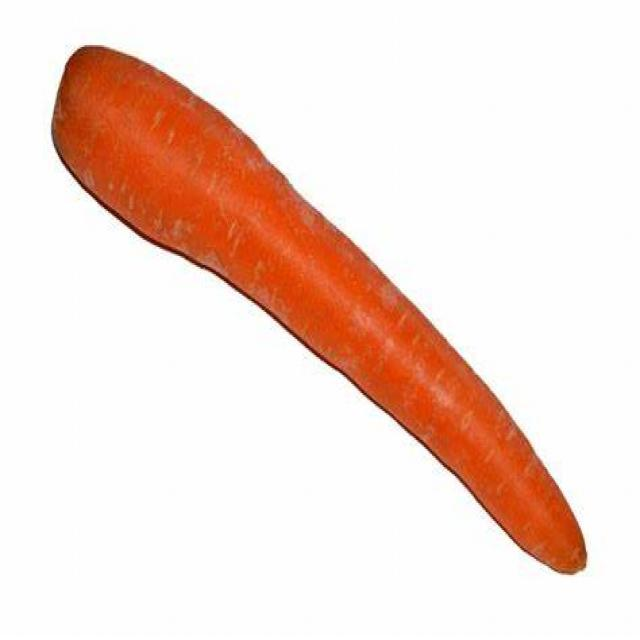Carrot: (52, 46, 590, 574)
